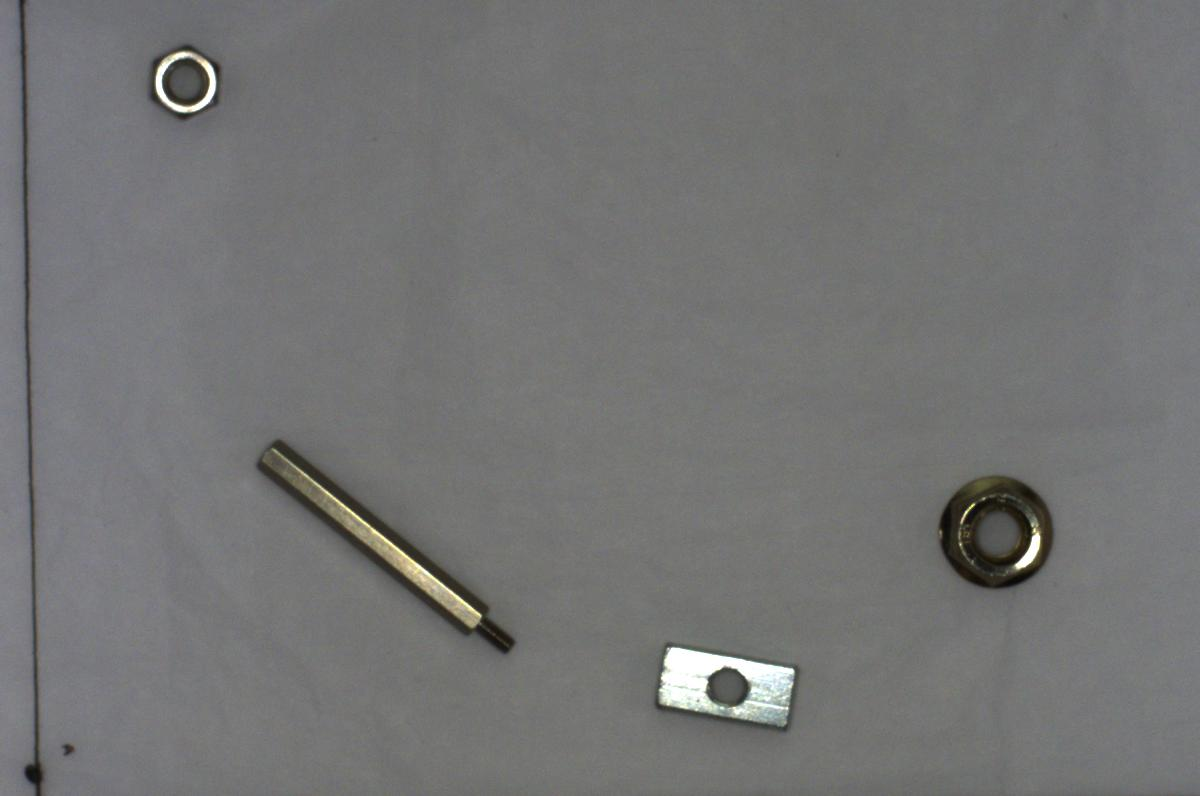Flange nut: (931, 463, 1059, 589)
Hexagon nut: (139, 36, 228, 123)
Hexagonal steel column: (250, 426, 522, 667)
Rectangular nut: (644, 634, 806, 739)
